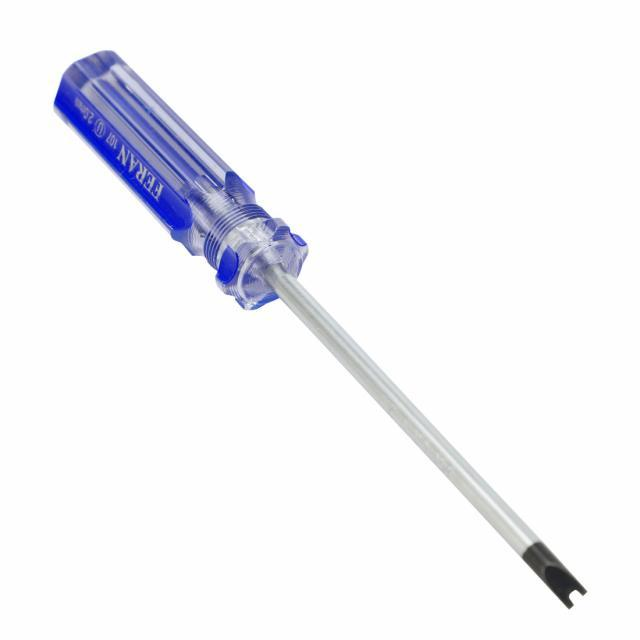screwdriver: (48, 43, 590, 612)
